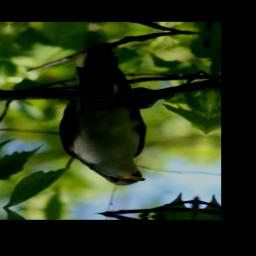Cuckoo: (50, 42, 165, 187)
